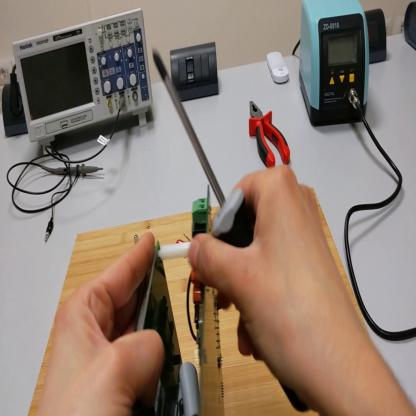hand: (188, 168, 366, 398), (37, 231, 165, 416)
low voltage board: (156, 185, 225, 415)
oscilloscope: (13, 4, 153, 159)
pliers: (249, 100, 292, 168)
screwdriver-: (153, 51, 257, 248)
socket: (3, 82, 29, 139), (367, 9, 389, 64), (405, 3, 416, 49)
welder station: (299, 1, 370, 127)
